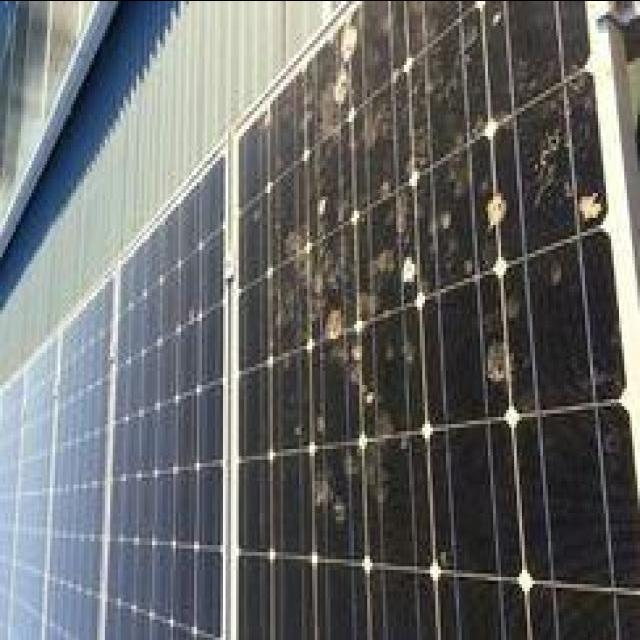soiled: (235, 3, 637, 640)
